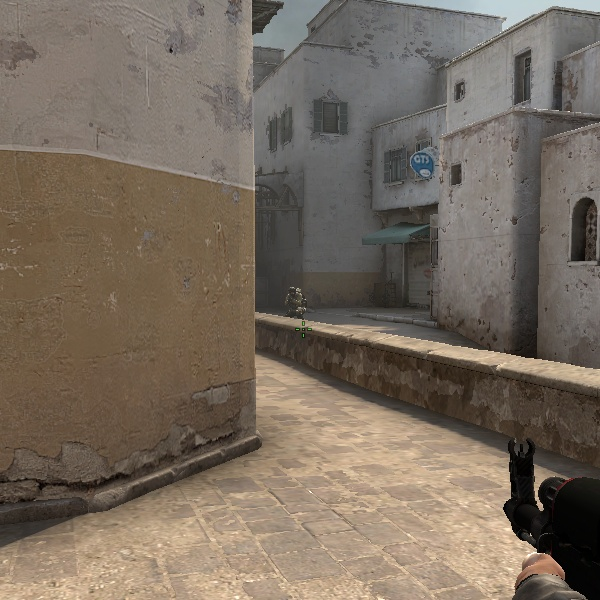ct_body: (276, 284, 312, 313)
ct_head: (286, 285, 302, 300)
